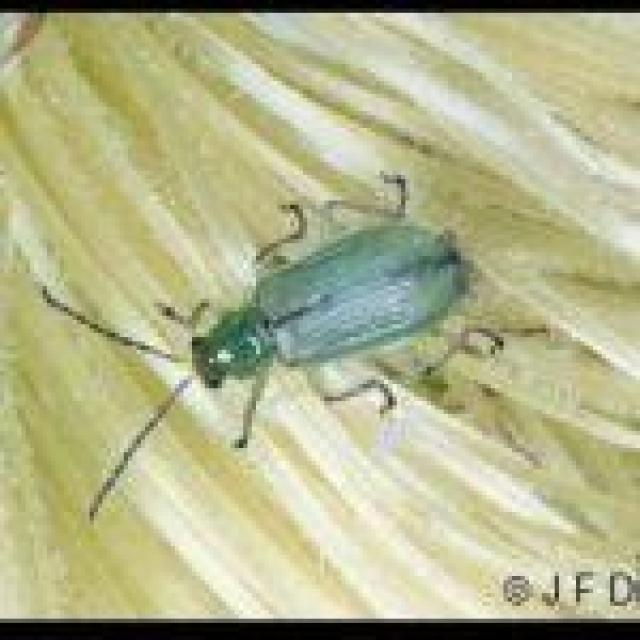gusano_gris: (36, 170, 589, 506)
